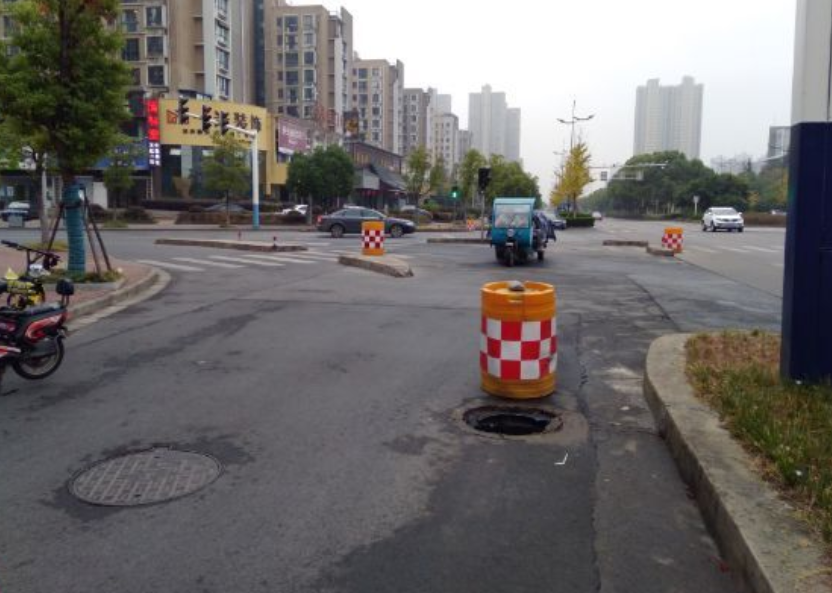well: (61, 439, 253, 515), (454, 394, 560, 439)
